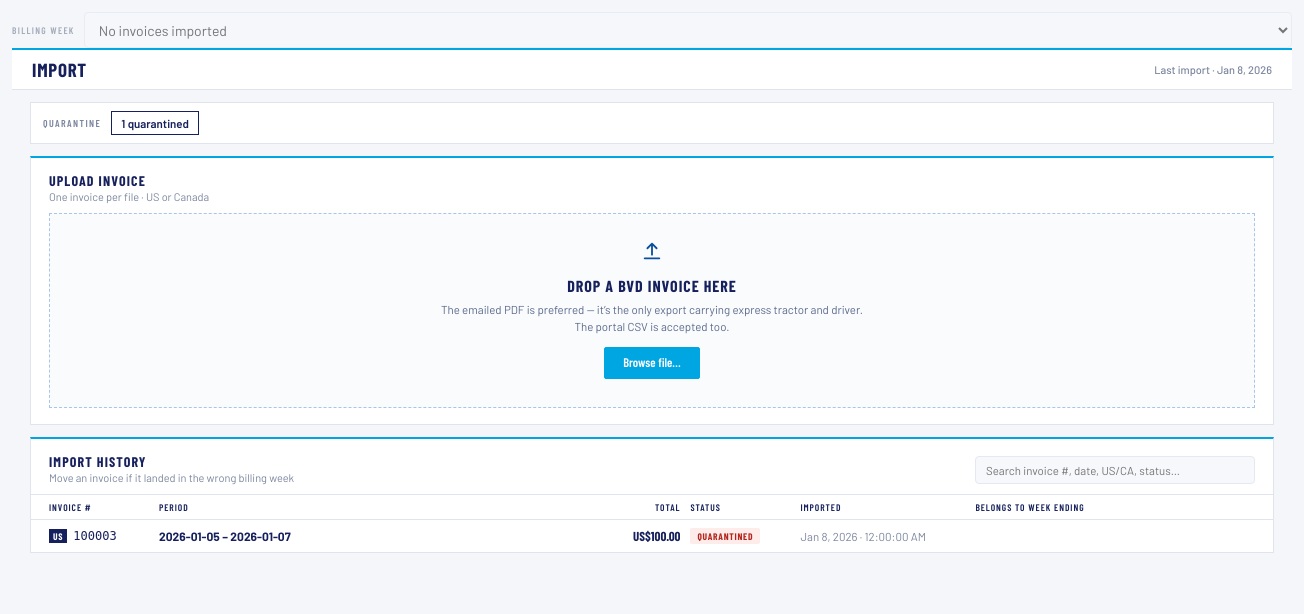
Test: ImportPage (T-42) › a quarantined history row reopens QuarantineScreen via GET /invoices/{id}, without re-uploading
Click the button with test id "import-history-row-inv-1": click(95, 536) x1=49 y1=528 x2=926 y2=544
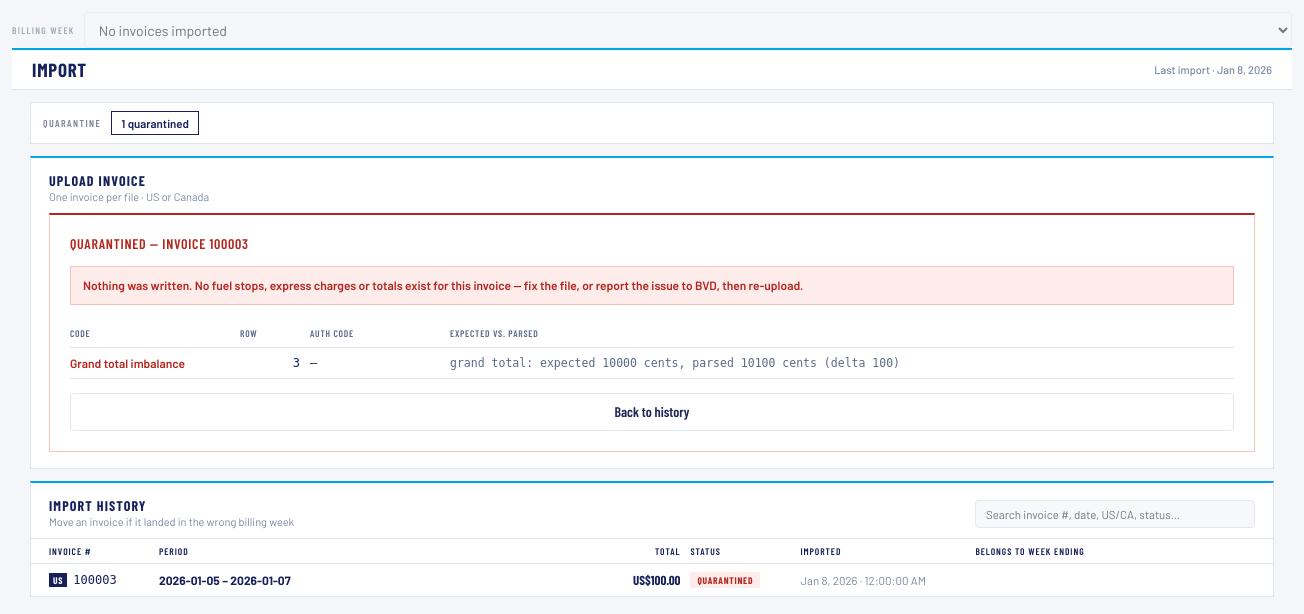
Now the element with test id "quarantine-screen" is shown, box x1=49 y1=213 x2=1255 y2=452
Now the element with test id "quarantine-screen" shows "100003", box x1=210 y1=235 x2=249 y2=252
